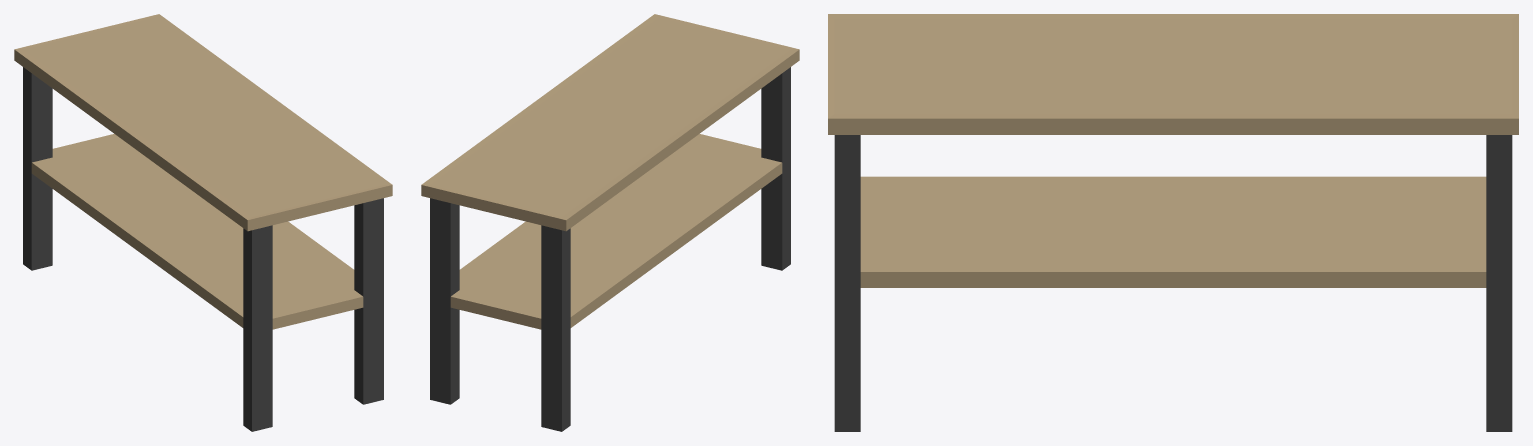
File: workbench.fbx
The picture shows the model from 3 angles, left to right: view 1: azimuth 30°, elevation 25°; view 2: azimuth 150°, elevation 25°; view 3: azimuth 270°, elevation 25°; orthographic projection. The views are drawn at different scales.
Visible parts, largest first — view 1: polySurface5; view 2: polySurface5; view 3: polySurface5.
Part boxes in pixels (x1,y1,x2,y2): polySurface5: (14,14,392,431); polySurface5: (421,14,799,431); polySurface5: (828,14,1518,431).
Bounding box in the file's own units: 1.04 × 1.48 × 2.91.
